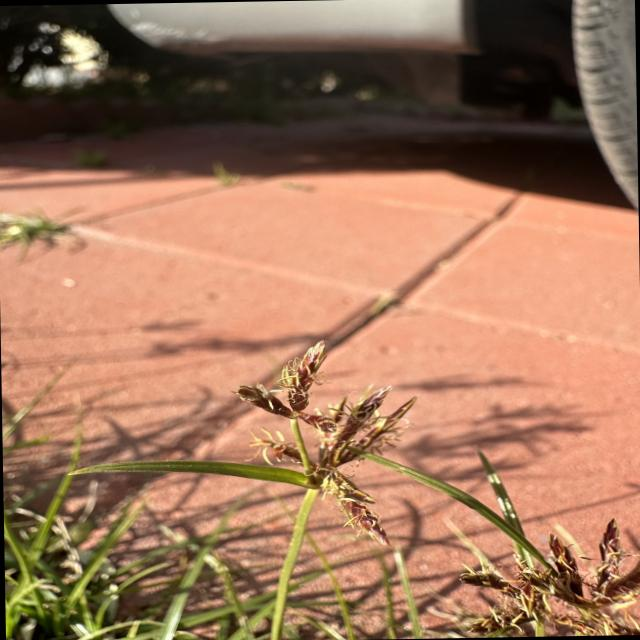cyperus: (232, 332, 408, 538), (452, 493, 640, 634)
